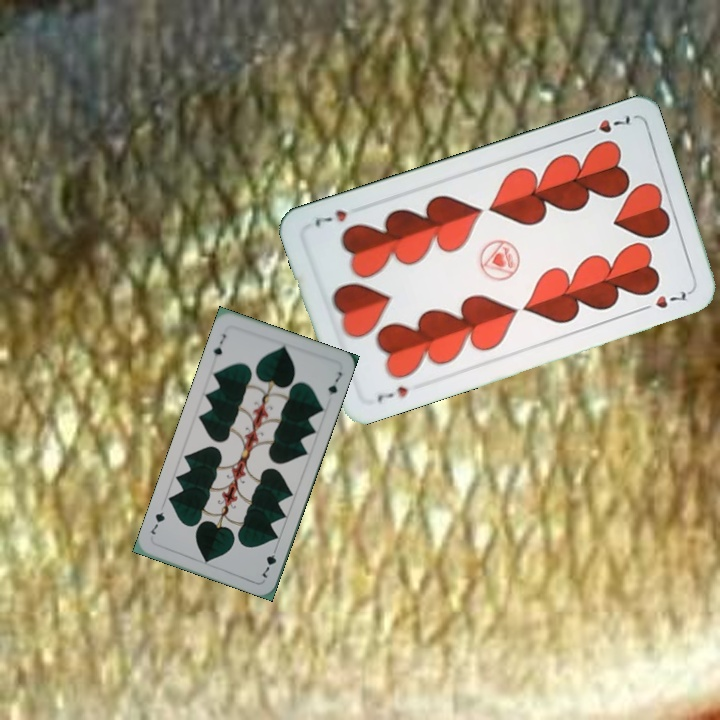G7: (258, 542, 280, 580), (209, 330, 229, 359)
H7: (577, 111, 636, 139), (373, 382, 410, 407)
